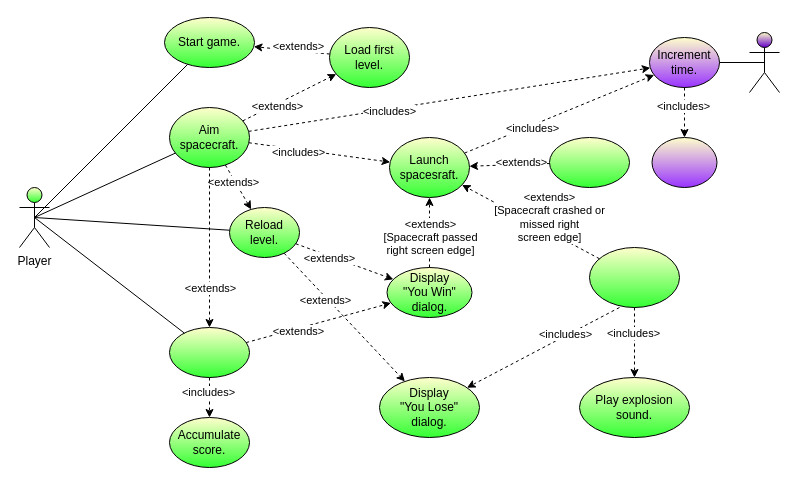
Some shapes in this 808 by 485 pixel diagram are drawn without their labels. Each missing label, with the centre of its shape:
"Display explosion." goes at point 634,277.
"Load next level." goes at point 209,352.
"Play launch sound." goes at point 589,162.
"Refresh screen." goes at point 684,162.
"Scheduler" goes at point 764,62.
